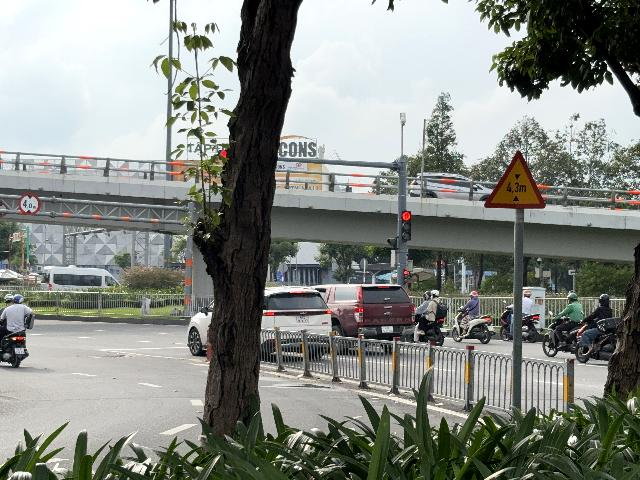chieu-cao-tinh-khong-thuc-te: (484, 150, 546, 210)
